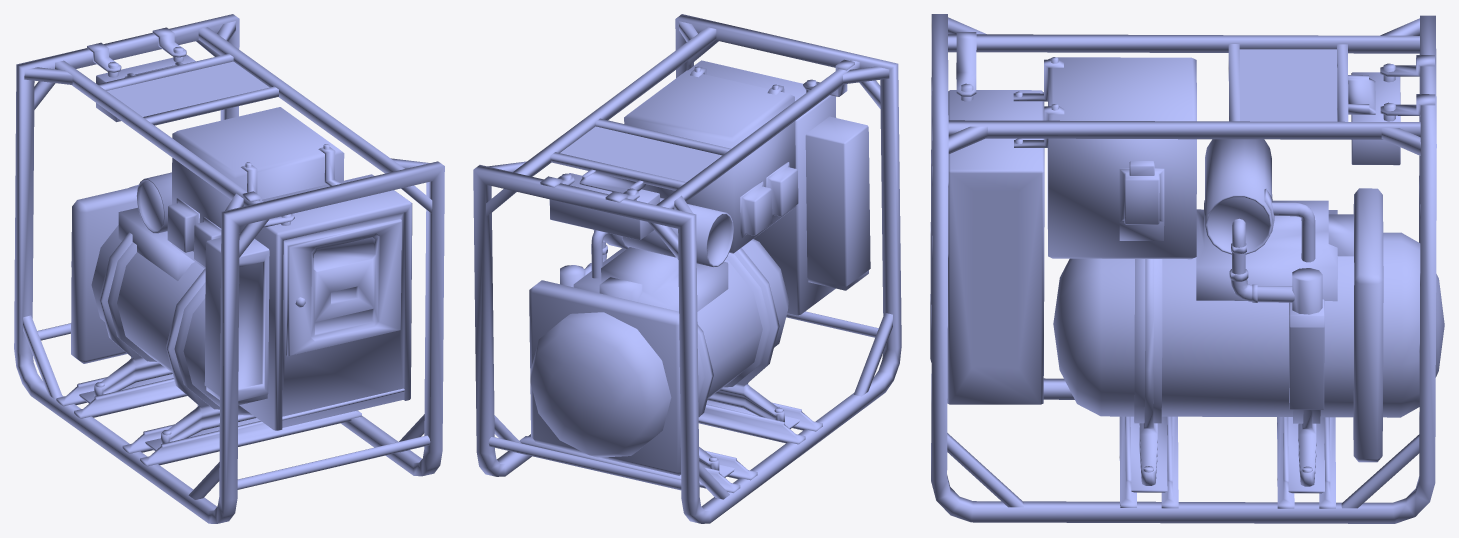
File: generator3.fbx
The picture shows the model from 3 angles, left to right: view 1: azimuth 30°, elevation 25°; view 2: azimuth 150°, elevation 25°; view 3: azimuth 270°, elevation 25°; orthographic projection. The views are drawn at different scales.
Parts seen in each view (by area): view 1: generator_codBO_01; view 2: generator_codBO_01; view 3: generator_codBO_01.
Part boxes in pixels (<box>): generator_codBO_01: <box>14,14,444,523</box>; generator_codBO_01: <box>473,14,901,523</box>; generator_codBO_01: <box>930,14,1444,523</box>.
Bounding box in the file's own units: 115 × 161 × 194.
